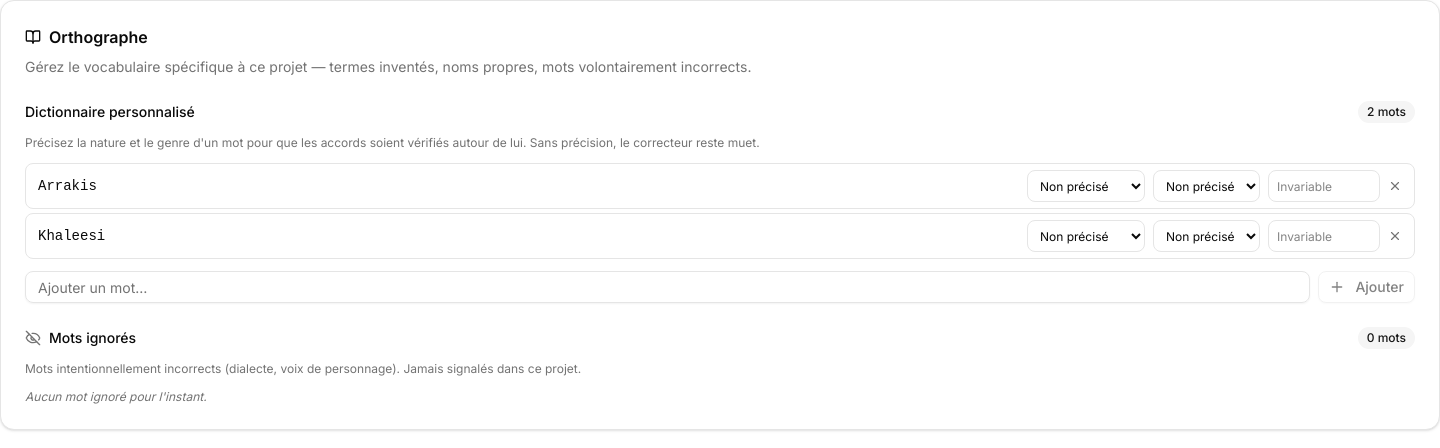
it: SpellCheckSettingsCard › removes a word from the custom dictionary on delete click
The image size is (1440, 448).
Click the button named "supprimer Arrakis". click: (1395, 186)
box: [1388,179,1402,193]
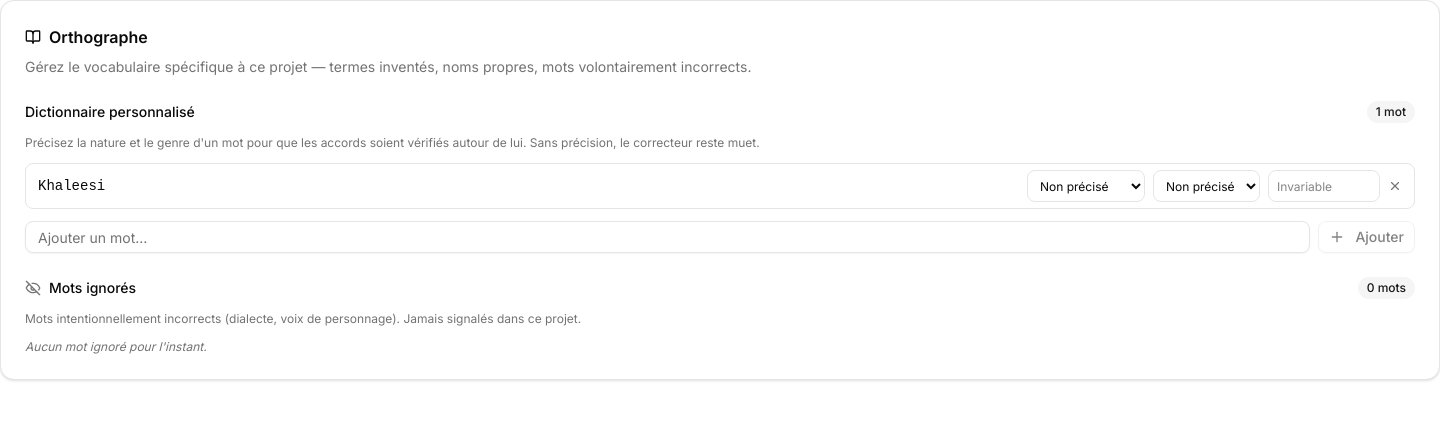
Result: the text "Arrakis" is gone
